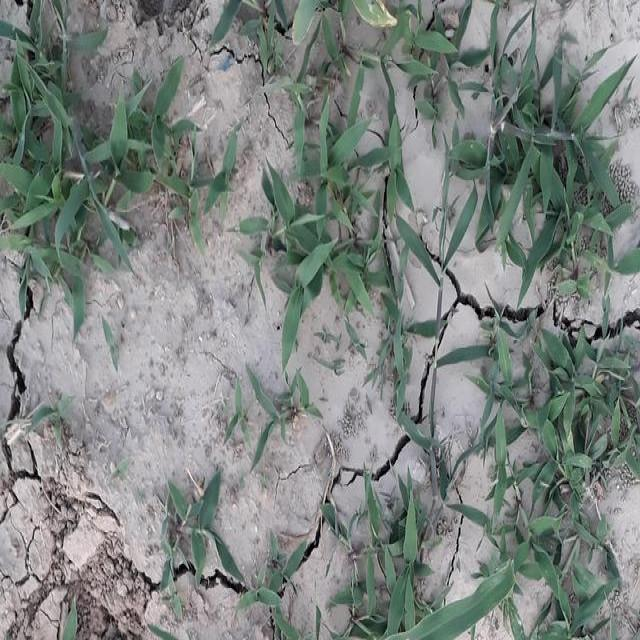weed: (0, 0, 182, 310), (463, 323, 640, 640), (244, 89, 434, 337), (469, 43, 627, 270)
